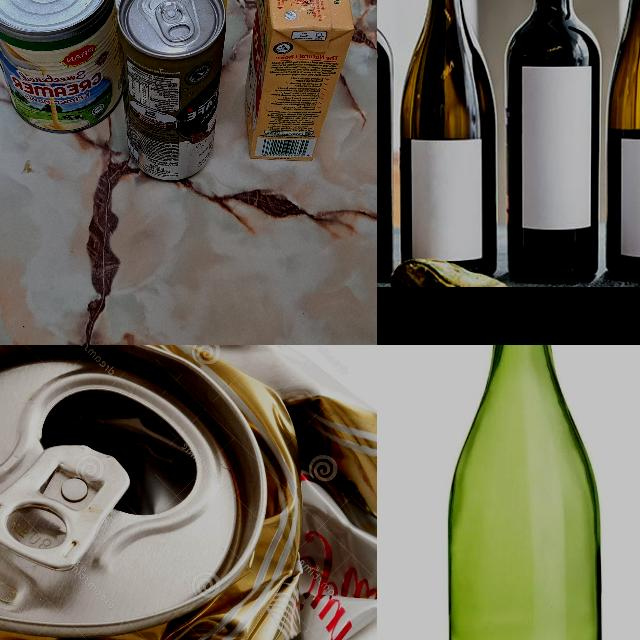aba de lata: (0, 443, 129, 569), (154, 1, 196, 42)
caixinha: (245, 0, 355, 161)
garrafa de vidro: (446, 345, 602, 640), (502, 0, 601, 283), (398, 0, 498, 278), (603, 0, 640, 280)
lata: (0, 345, 377, 640), (116, 0, 228, 181), (0, 0, 125, 134)
